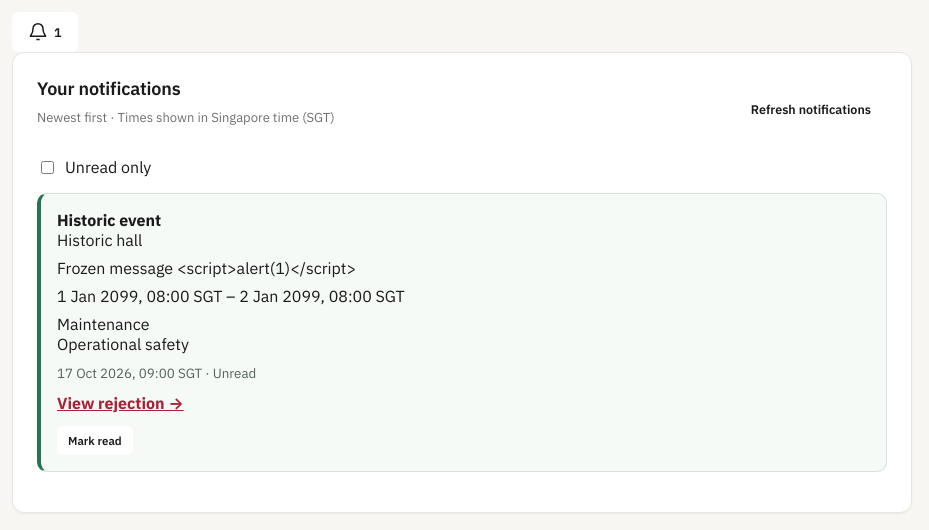
Test: clicking the notification content, not just its CTA, persists read and opens the rejection
Click the text "Historic event". click: point(109, 220)
box: [57,210,161,230]
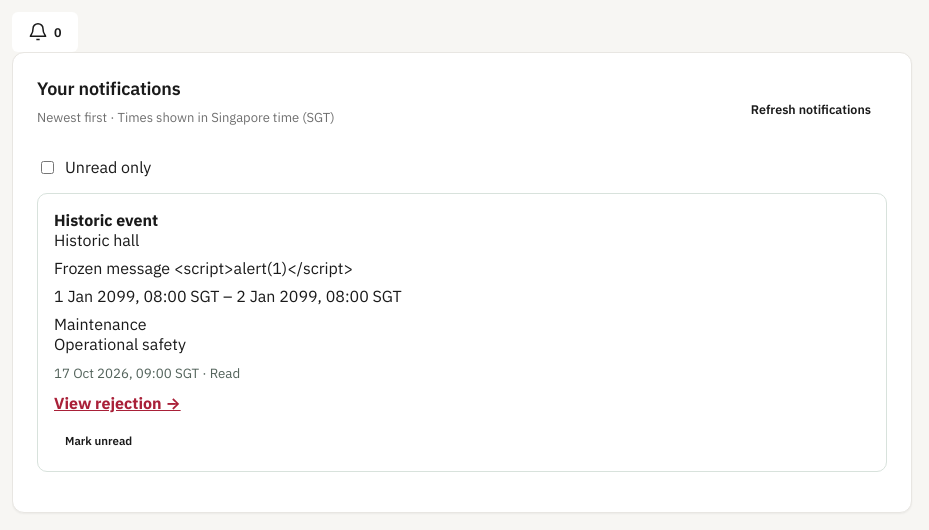
Now the button "Mark unread" is shown, box [54,426,143,455]
